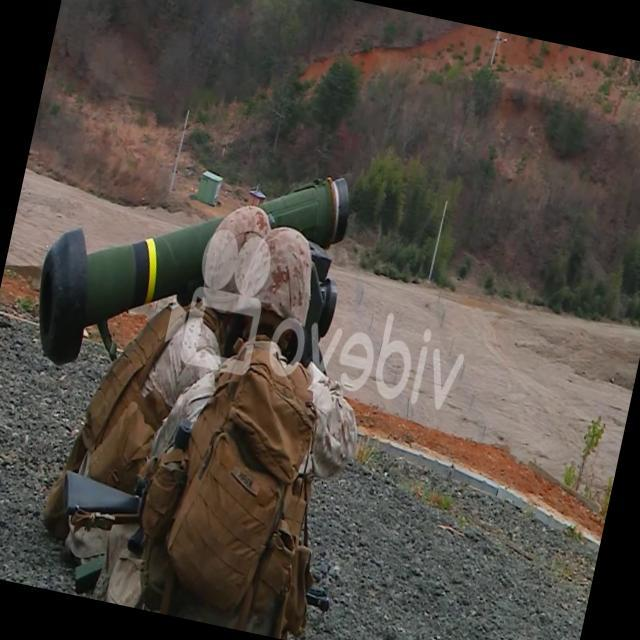rocket: (30, 125, 348, 418)
